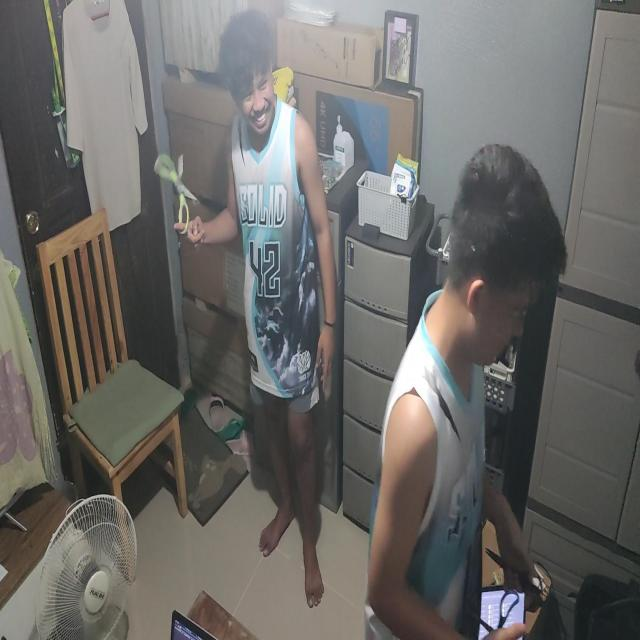scissor: (153, 153, 198, 237)
